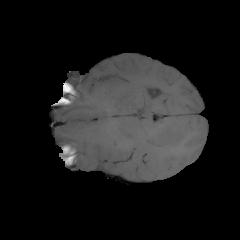glioma: (149, 121, 189, 154)
